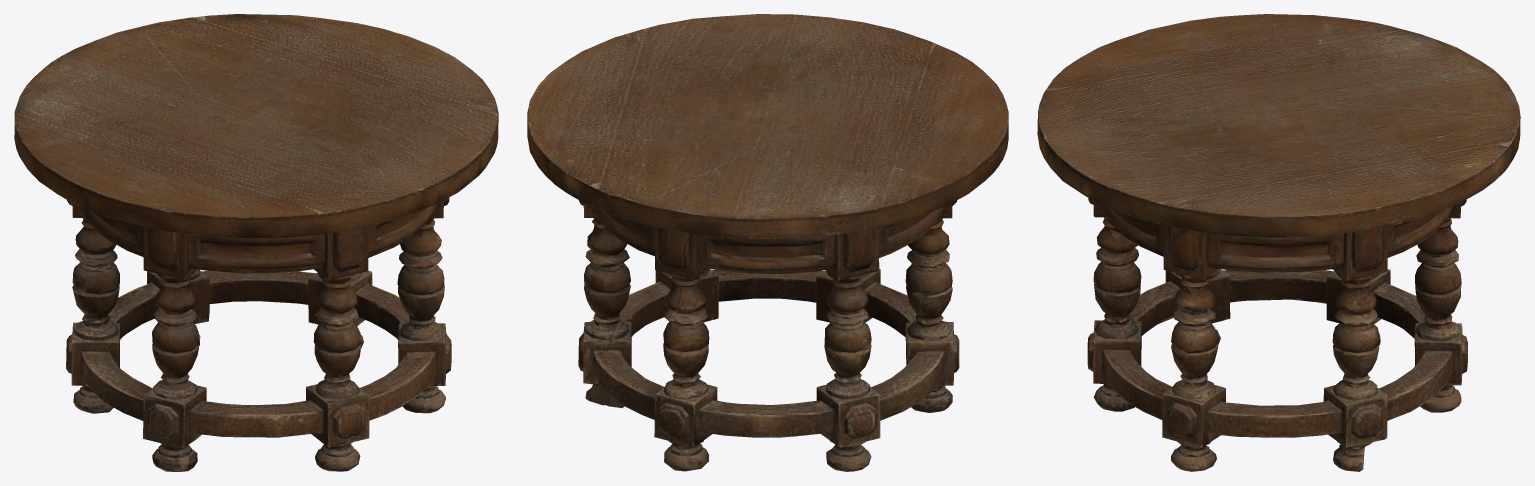
Rendered from table-round-low.glb.
3 views of the same model, side by side, from view 1: azimuth 30°, elevation 25°; view 2: azimuth 150°, elevation 25°; view 3: azimuth 270°, elevation 25° (orthographic).
Parts seen in each view (by area): view 1: table-round-low; view 2: table-round-low; view 3: table-round-low.
Boxes of the visible parts, x1,y1,x2,y2 form: table-round-low: (14,14,498,471); table-round-low: (527,14,1008,471); table-round-low: (1037,14,1520,471).
Size of the model in its own units: 0.7842 by 0.5219 by 0.7861.
1 material, 1 textured.
